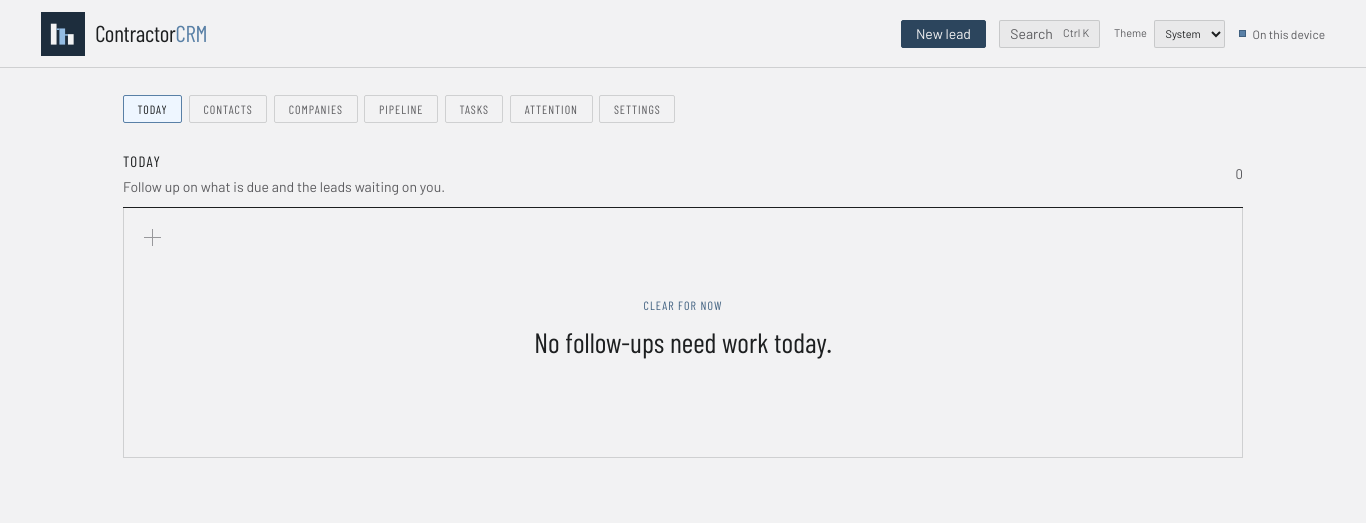
pipeline table › renders the last-contacted and next-task projection columns
The width and height of the screenshot is (1366, 523).
Click the button "Pipeline". click: (401, 109)
box: [364,95,438,123]
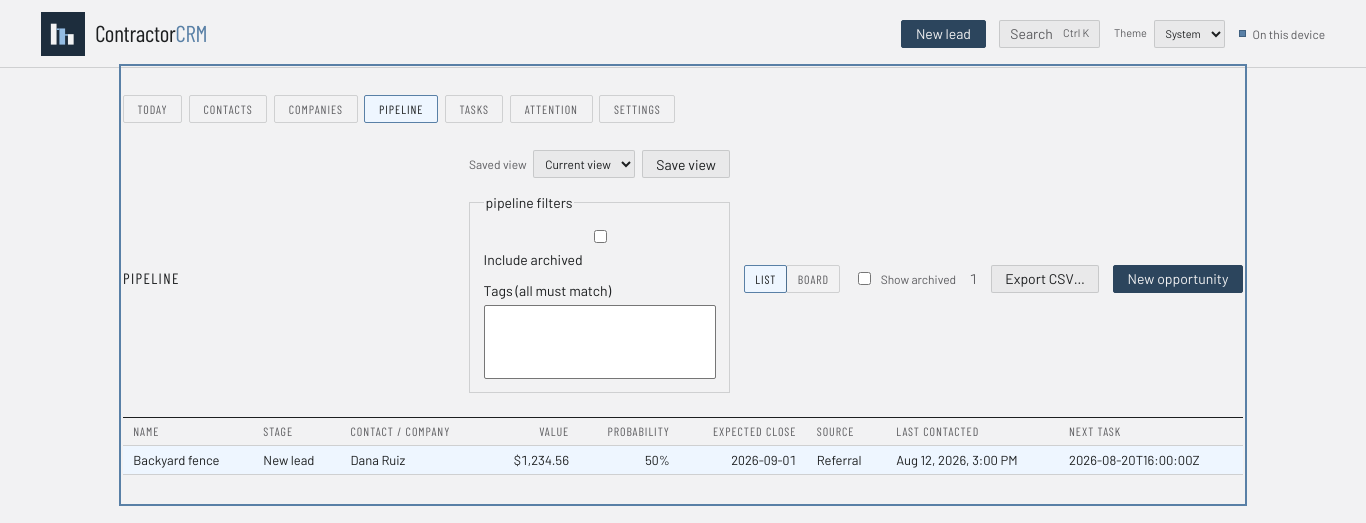
Now the column heading "Last contacted" is shown, box [886,418,1059,446]
Now the column heading "Next task" is shown, box [1059,418,1243,446]
Now the text "2026-08-20T16:00:00Z" is shown, box [1059,446,1243,474]
